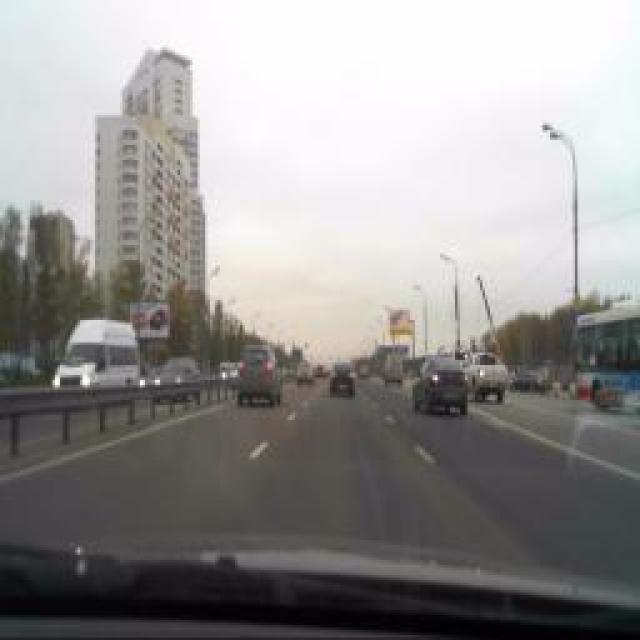sign: (572, 291, 582, 311)
